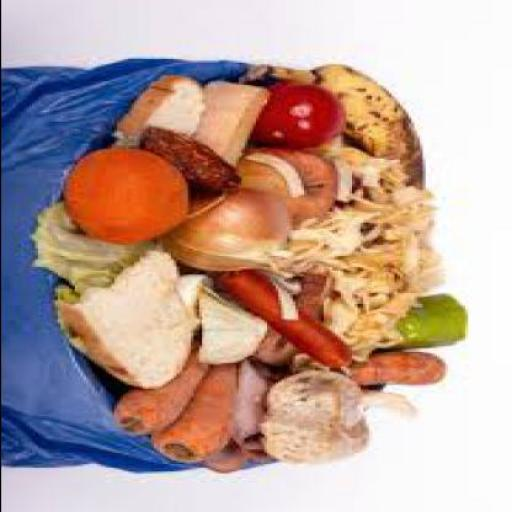biodegradable: (289, 154, 447, 362), (249, 64, 430, 192), (51, 250, 201, 391), (266, 372, 421, 468), (226, 270, 356, 372), (226, 269, 351, 370), (65, 151, 195, 247), (166, 190, 300, 276), (31, 204, 139, 296), (114, 344, 215, 436), (156, 358, 243, 464), (254, 276, 340, 372), (113, 77, 212, 149), (193, 81, 269, 170), (246, 151, 342, 221), (252, 83, 345, 153), (148, 126, 248, 190), (204, 288, 269, 368), (393, 295, 467, 351), (229, 359, 274, 447), (351, 351, 449, 387), (223, 429, 275, 462), (201, 441, 246, 475), (181, 274, 215, 308)
